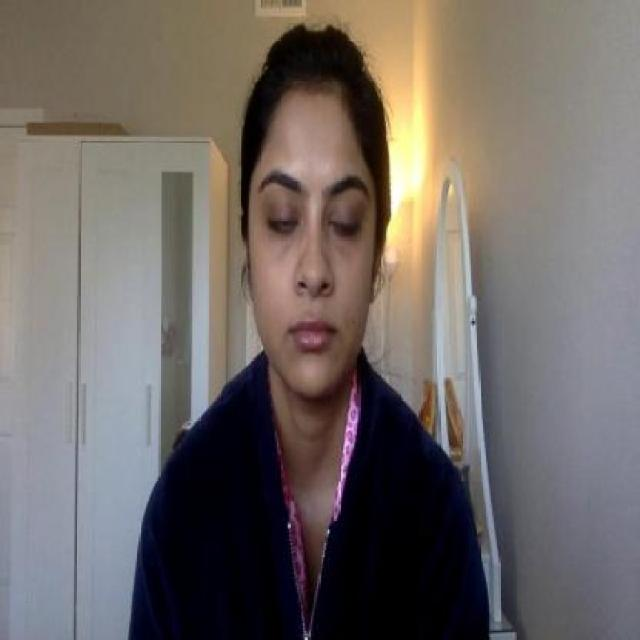drowsy: (268, 208, 301, 244), (331, 211, 362, 244)
